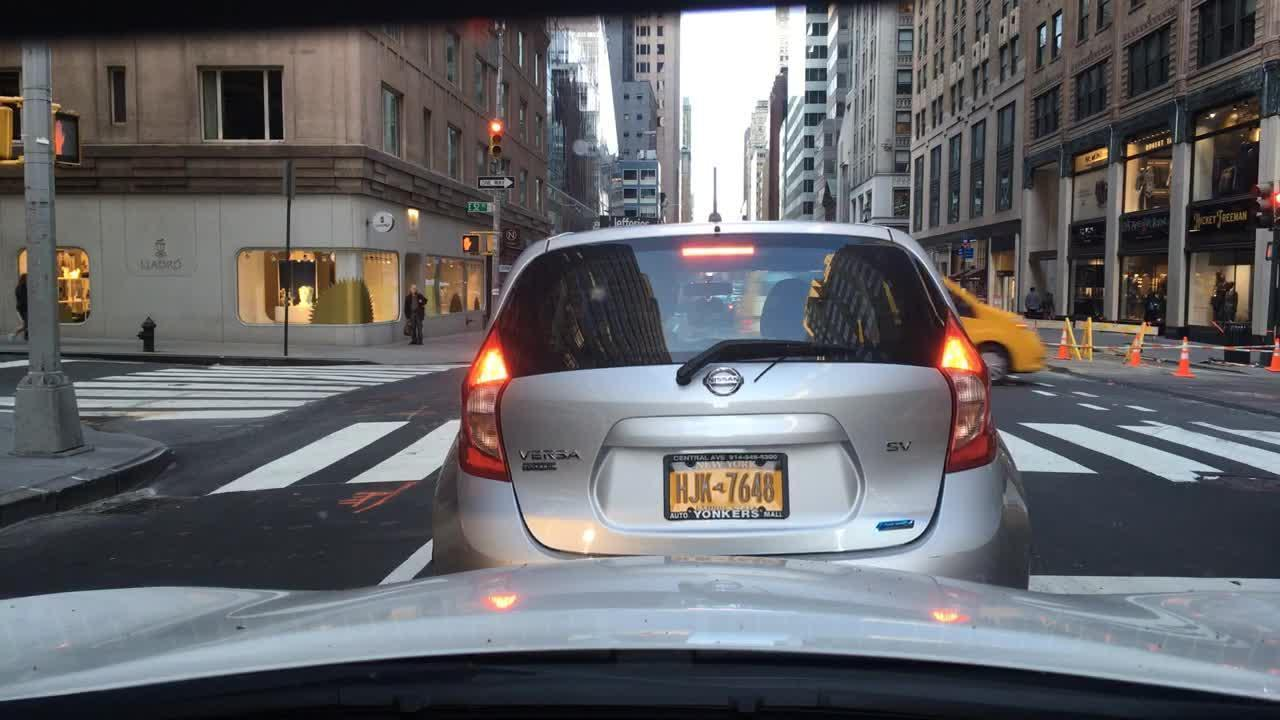Nissan: (693, 360, 750, 399)
